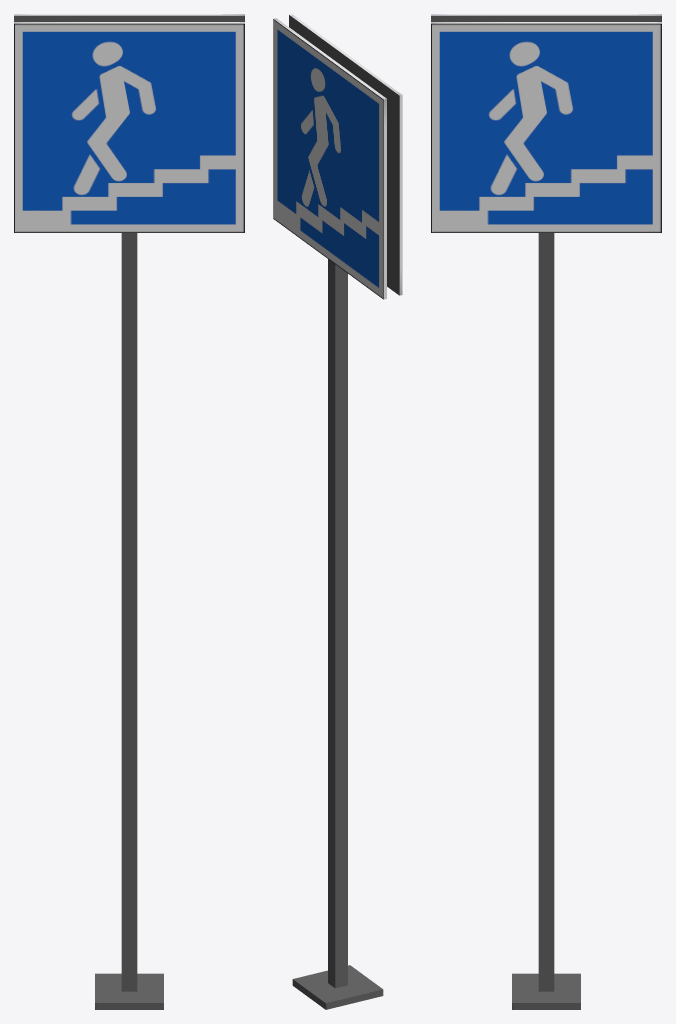
Rendered from Transition_Sign01.FBX.
3 renders of one model, left to right at view 1: azimuth 90°, elevation 25°; view 2: azimuth 210°, elevation 25°; view 3: azimuth 270°, elevation 25°, orthographic. The views are drawn at different scales.
Visible parts, largest first — view 1: Transition_Sign01; view 2: Transition_Sign01; view 3: Transition_Sign01.
Part boxes in pixels (left/top/right/bottom): Transition_Sign01: left=14, top=14, right=244, bottom=1009; Transition_Sign01: left=273, top=14, right=402, bottom=1009; Transition_Sign01: left=431, top=14, right=661, bottom=1009.
Size of the model in its own units: 180 by 2800 by 600.
